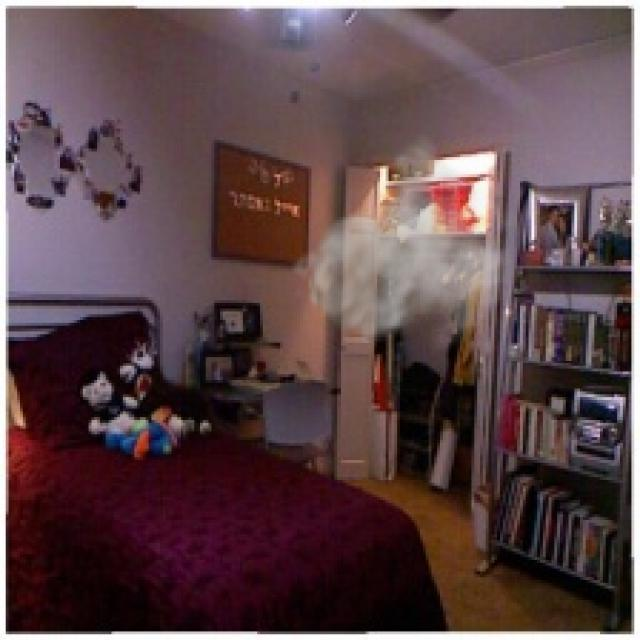Smoke: (289, 128, 520, 363)
